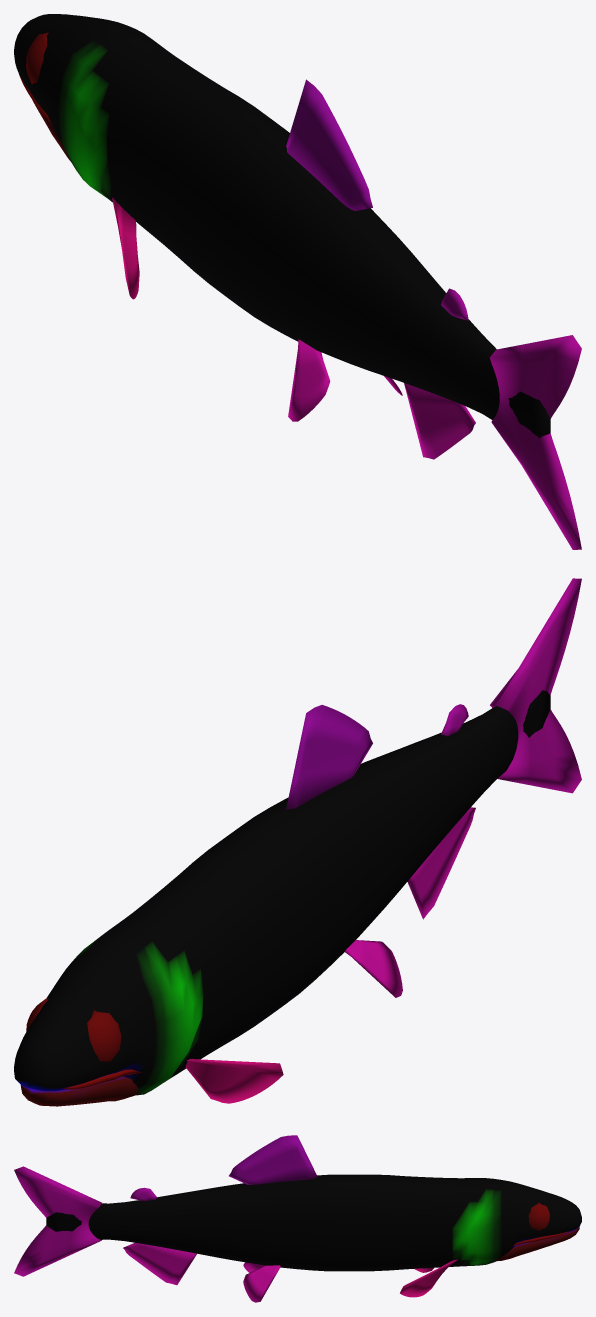
File: sockeye_smolt_lo.glb
3 renders of one model, top to bottom at view 1: azimuth 30°, elevation 25°; view 2: azimuth 150°, elevation 25°; view 3: azimuth 270°, elevation 25°, orthographic. The views are drawn at different scales.
Parts seen in each view (by area): view 1: sockeye_smolt_lo; view 2: sockeye_smolt_lo; view 3: sockeye_smolt_lo.
Boxes of the visible parts, bbox=[...] form: sockeye_smolt_lo: bbox=[14, 14, 581, 549]; sockeye_smolt_lo: bbox=[14, 578, 581, 1106]; sockeye_smolt_lo: bbox=[14, 1135, 581, 1302].
Size of the model in its own units: 0.0961 by 0.1782 by 0.5967.
